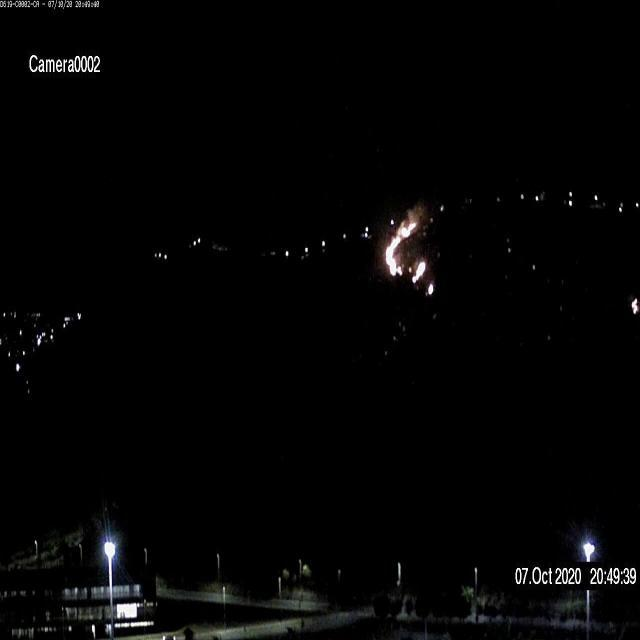Fire: (384, 214, 430, 288)
